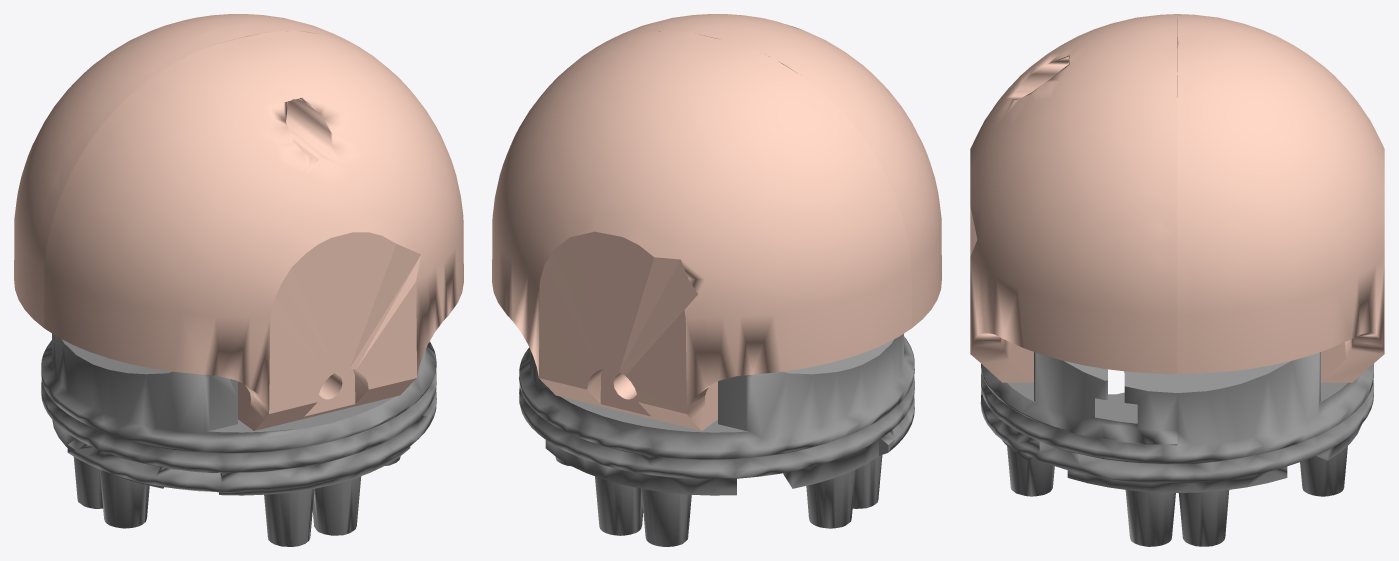
The picture shows the model from 3 angles, left to right: view 1: azimuth 30°, elevation 25°; view 2: azimuth 150°, elevation 25°; view 3: azimuth 270°, elevation 25°; orthographic projection.
Parts seen in each view (by area): view 1: node0, node2, node1; view 2: node1, node2, node0; view 3: node1, node0, node2.
Boxes of the visible parts, box(x1,y1,x2,y2) form: node0: box(44, 31, 463, 430); node2: box(41, 333, 436, 546); node1: box(14, 14, 369, 327); node1: box(492, 31, 911, 430); node2: box(519, 333, 914, 546); node0: box(585, 14, 941, 327); node1: box(1177, 14, 1384, 382); node0: box(970, 14, 1177, 382); node2: box(980, 352, 1373, 546).
Bounding box in the file's own units: 0.0421 × 0.039 × 0.0455.
